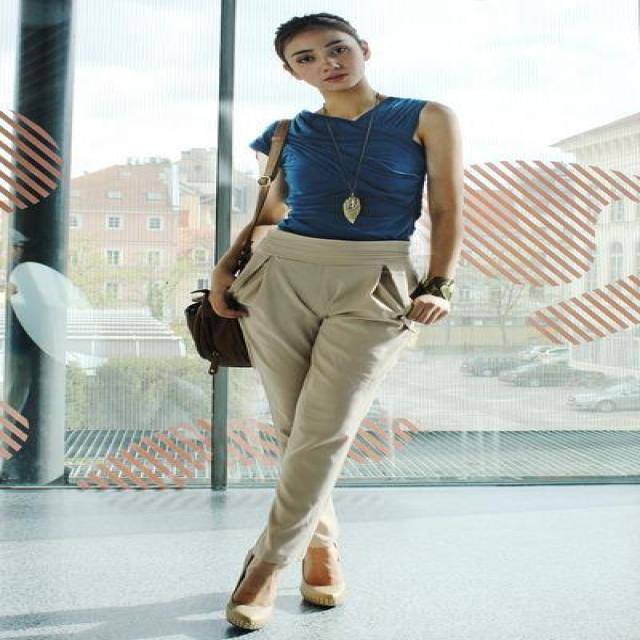bag: (186, 294, 250, 372)
pants: (229, 224, 421, 575)
shirt: (251, 94, 429, 240)
shoe: (226, 595, 334, 637)
